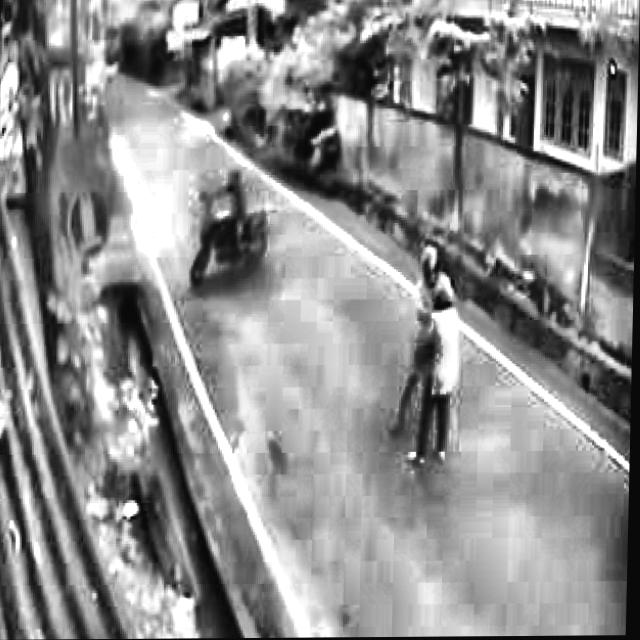robbery: (390, 241, 470, 471)
